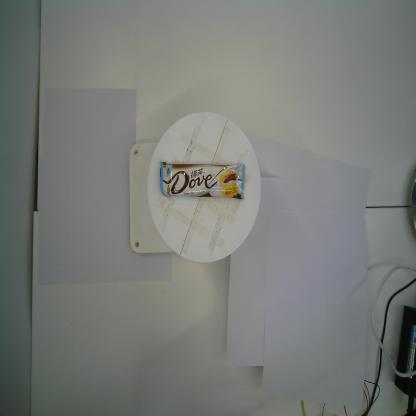Chocolate: (159, 161, 246, 200)
